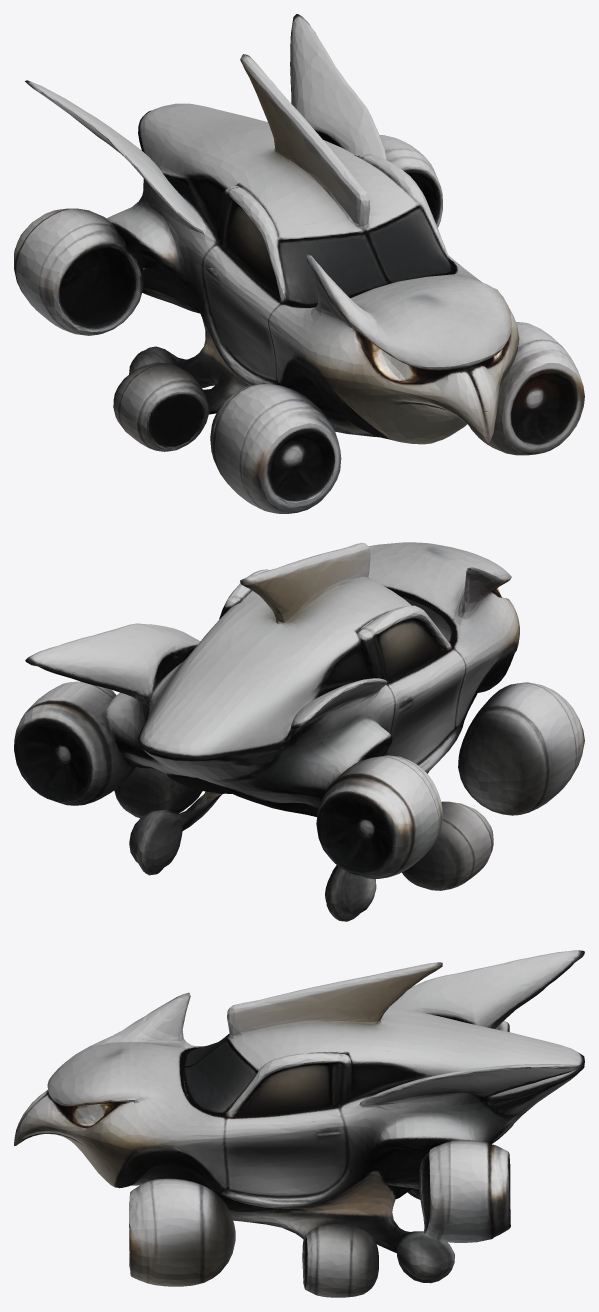
3 views of the same model, one above another, from view 1: azimuth 30°, elevation 25°; view 2: azimuth 150°, elevation 25°; view 3: azimuth 270°, elevation 25° (orthographic). The views are drawn at different scales.
Visible parts, largest first — view 1: world; view 2: world; view 3: world.
Part boxes in pixels (x1=…): world: x1=14, y1=14, x2=584, y2=513; world: x1=14, y1=542, x2=584, y2=921; world: x1=14, y1=950, x2=584, y2=1297.
Bounding box in the file's own units: 0.7093 × 0.5417 × 1.
Materials: 1 (1 with a texture image).
